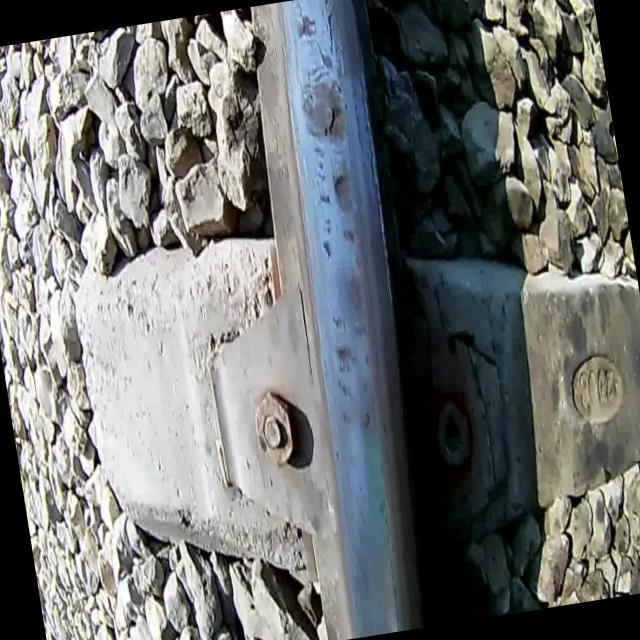Cracks: (320, 0, 349, 87), (292, 0, 311, 40)
Spallings: (302, 134, 344, 266), (317, 96, 355, 150)
Squats: (312, 262, 394, 457), (290, 64, 358, 161), (308, 0, 370, 98), (327, 152, 372, 268), (286, 0, 325, 48)
